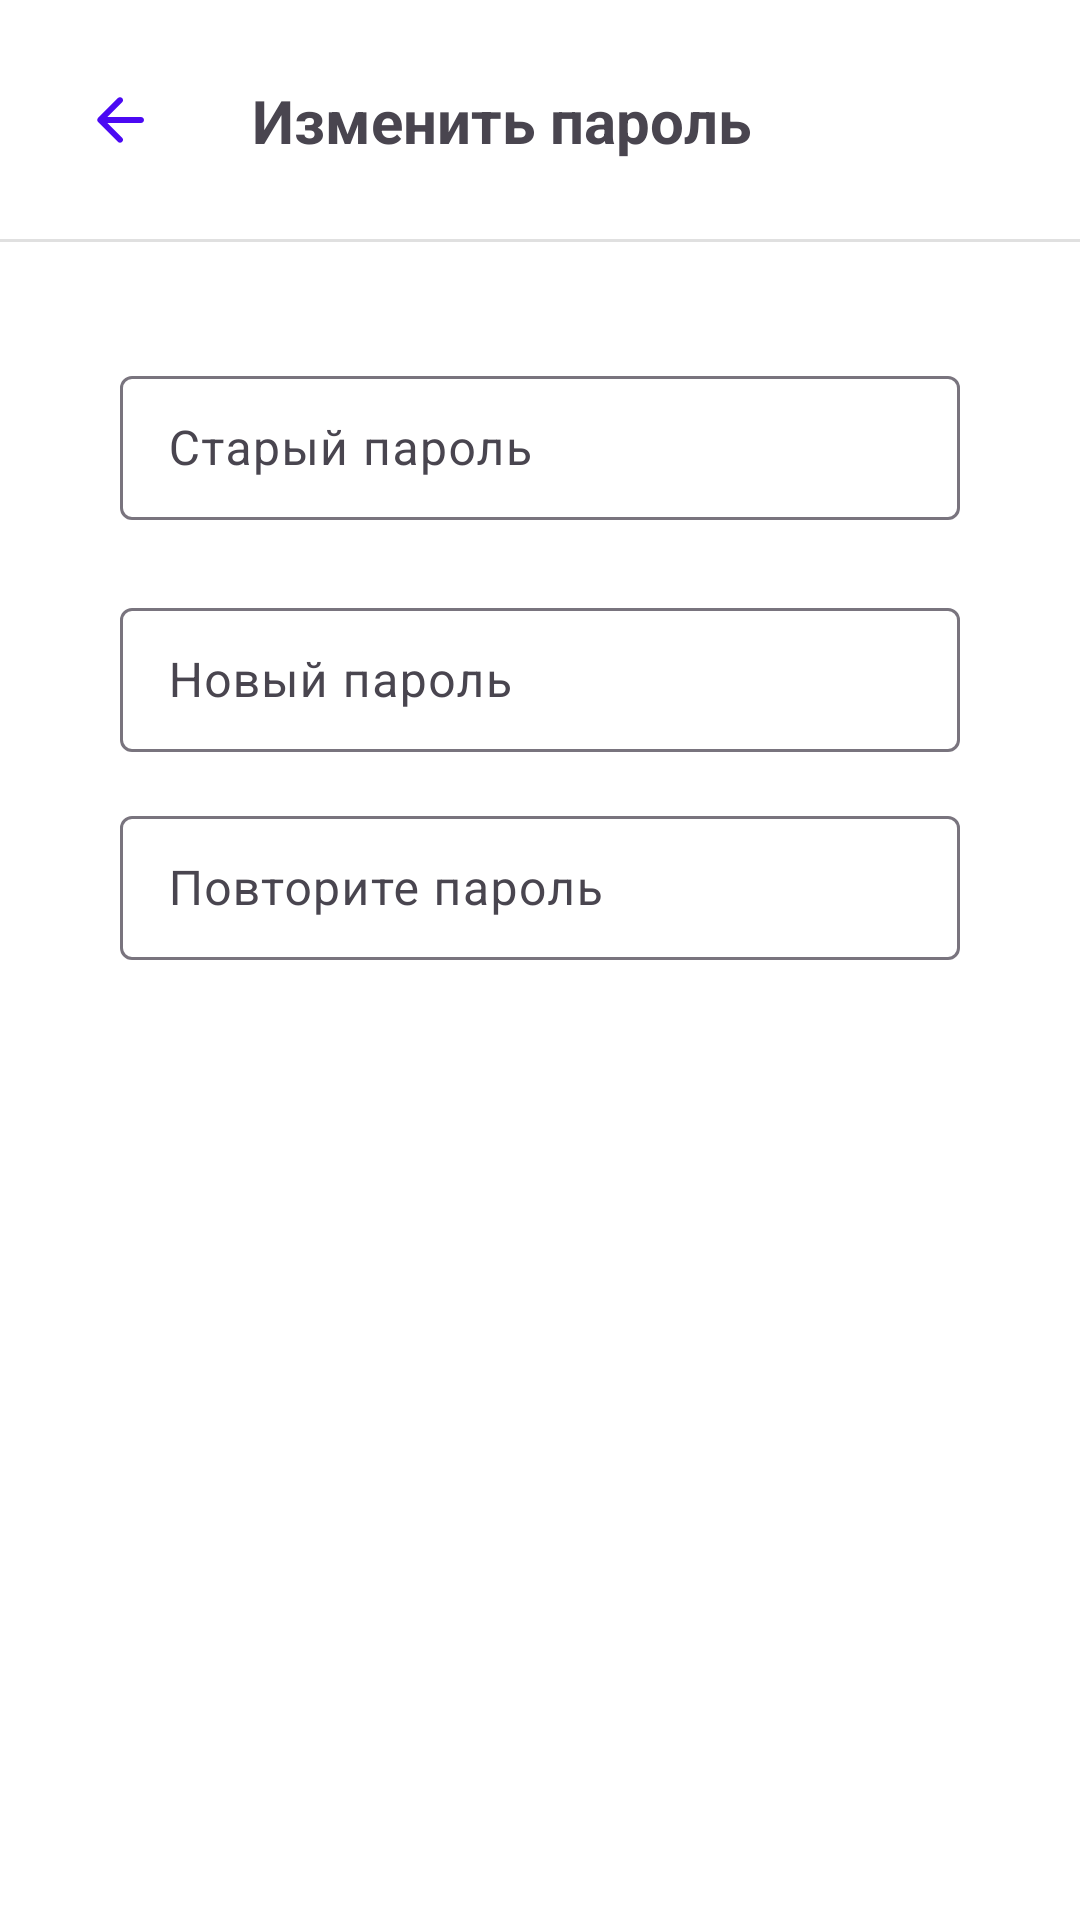

Icon click points for this 1080px×1920px phone screenshot, format (x=x, y=y):
arrow: (x=120, y=120)
